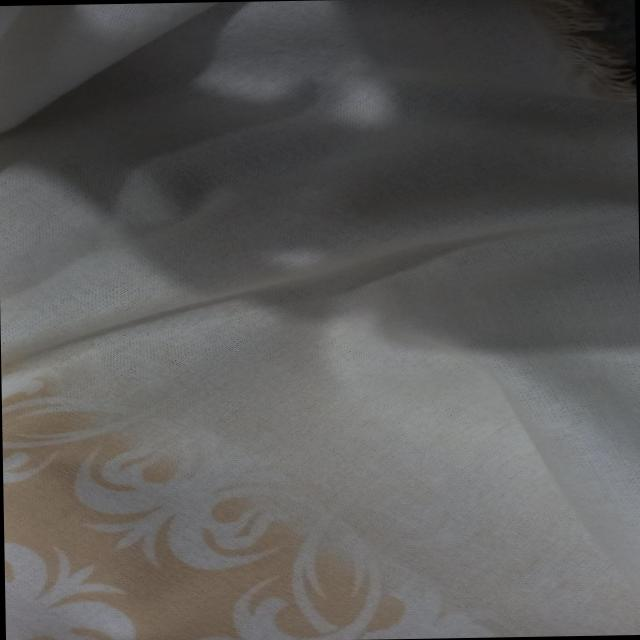color issues: (7, 4, 634, 480), (252, 484, 638, 630)
